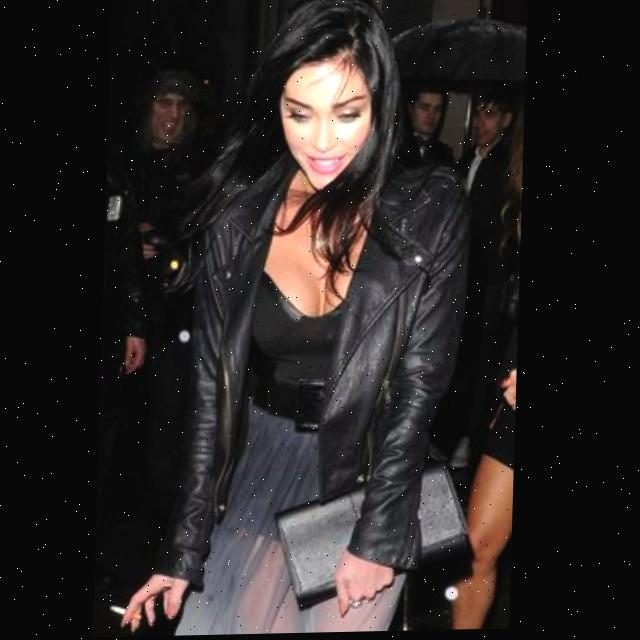cigarette: (117, 606, 145, 619)
